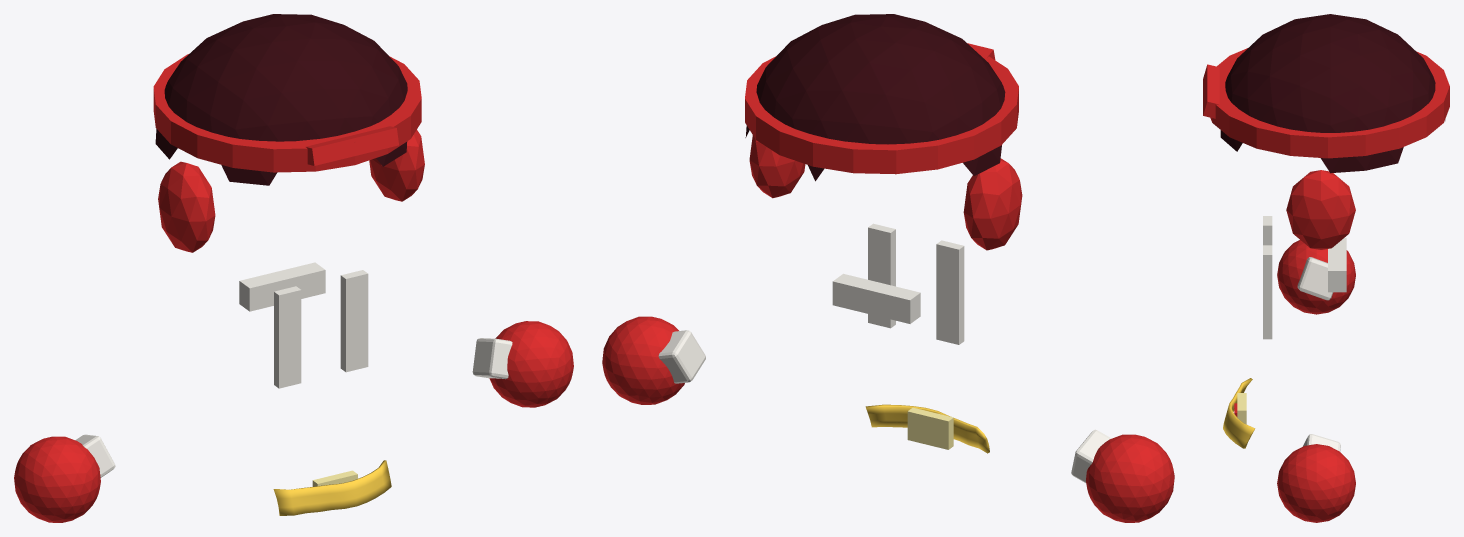
The model's file is Outfit_Boxing.fbx.
The picture shows the model from 3 angles, left to right: view 1: azimuth 30°, elevation 25°; view 2: azimuth 150°, elevation 25°; view 3: azimuth 270°, elevation 25°; orthographic projection. The views are drawn at different scales.
Parts seen in each view (by area): view 1: Headgear__Head, Towel__spine.004, GloveR__hand.R.003, GloveL__hand.L.003, Belt__spine; view 2: Headgear__Head, Towel__spine.004, GloveR__hand.R.003, GloveL__hand.L.003, Belt__spine, BeltBuckle__spine; view 3: Headgear__Head, GloveL__hand.L.003, GloveR__hand.R.003, Towel__spine.004, Belt__spine, BeltBuckle__spine.
Part boxes in pixels (x1,y1,x2,y2): Headgear__Head: (153,14,424,252); Towel__spine.004: (239,262,368,388); GloveR__hand.R.003: (14,434,115,522); GloveL__hand.L.003: (472,321,573,407); Belt__spine: (273,460,391,515); Headgear__Head: (745,14,1022,250); Towel__spine.004: (832,223,964,344); GloveR__hand.R.003: (1071,429,1174,522); GloveL__hand.L.003: (602,316,705,404); Belt__spine: (865,404,989,453); BeltBuckle__spine: (907,407,953,449); Headgear__Head: (1203,14,1449,249); GloveL__hand.L.003: (1277,434,1355,522); GloveR__hand.R.003: (1277,240,1355,314); Towel__spine.004: (1263,216,1346,339); Belt__spine: (1223,378,1255,448); BeltBuckle__spine: (1234,393,1246,424).
Size of the model in its own units: 1.23 by 0.95 by 0.5308.
